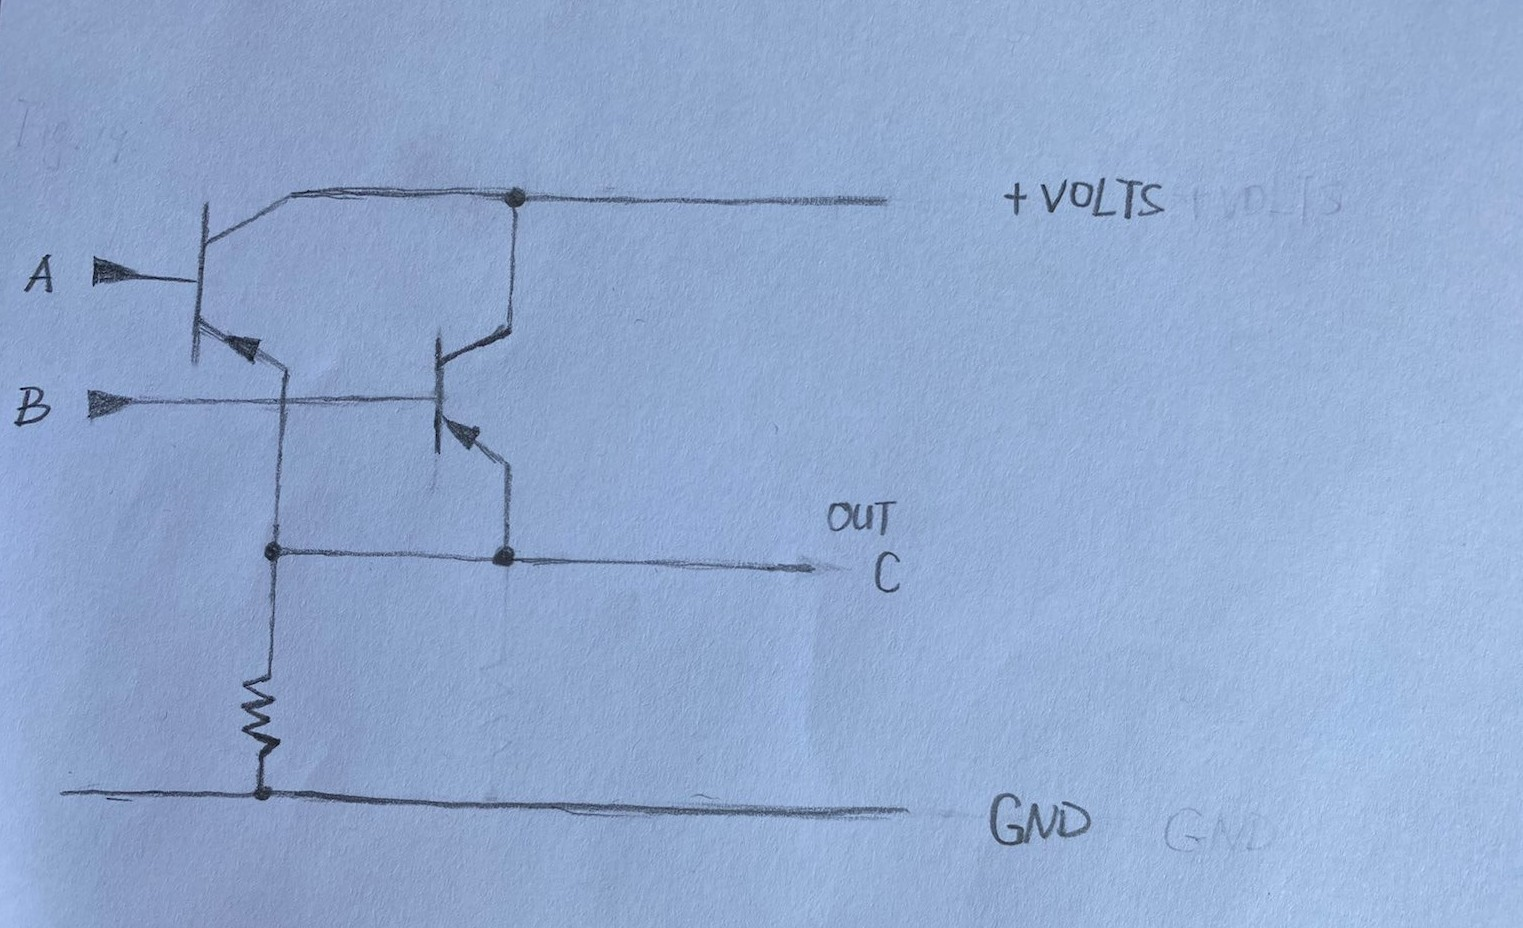crossover: (269, 389, 296, 417)
junction: (485, 535, 532, 582), (493, 177, 541, 222), (253, 525, 290, 572), (243, 774, 280, 812)
resistor: (228, 654, 294, 760)
terminal: (78, 378, 146, 429), (83, 247, 154, 295), (855, 789, 931, 833), (847, 182, 907, 216), (771, 550, 828, 585), (53, 776, 90, 809)
text: (983, 785, 1100, 849), (1039, 171, 1168, 226), (824, 488, 897, 539), (7, 376, 55, 433), (869, 546, 914, 598), (18, 248, 58, 300), (995, 174, 1030, 219)
transistor: (185, 184, 306, 380), (421, 318, 531, 477)
